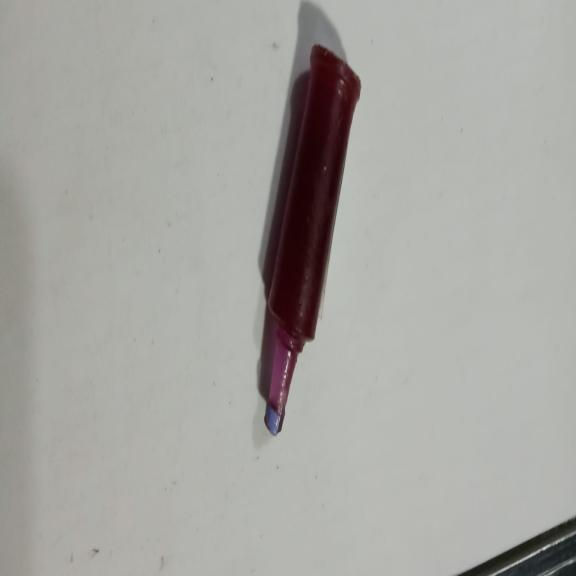Plastik: (255, 46, 360, 432)
